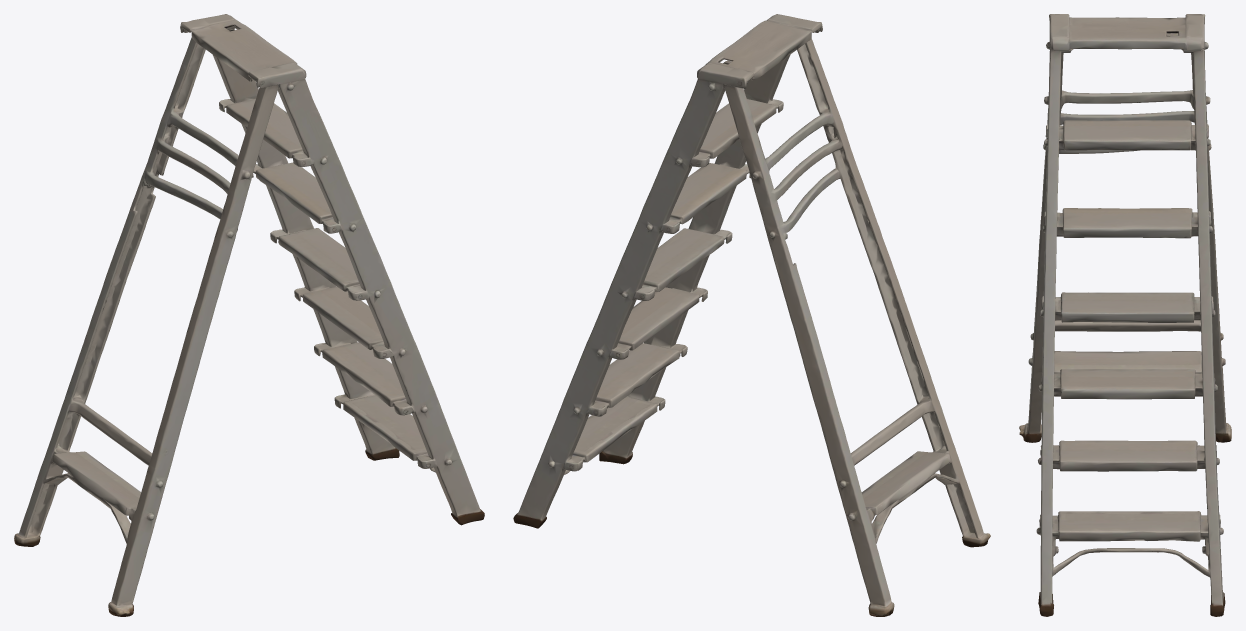
File: ladder-step.glb
3 renders of one model, left to right at view 1: azimuth 30°, elevation 25°; view 2: azimuth 150°, elevation 25°; view 3: azimuth 270°, elevation 25°, orthographic.
Parts seen in each view (by area): view 1: tripo_node_e236929c-a187-4b0b-974b-76c5d07dfec5; view 2: tripo_node_e236929c-a187-4b0b-974b-76c5d07dfec5; view 3: tripo_node_e236929c-a187-4b0b-974b-76c5d07dfec5.
Part boxes in pixels (box(x1,y1,x2,y2)): tripo_node_e236929c-a187-4b0b-974b-76c5d07dfec5: box(14, 14, 484, 616); tripo_node_e236929c-a187-4b0b-974b-76c5d07dfec5: box(513, 14, 990, 616); tripo_node_e236929c-a187-4b0b-974b-76c5d07dfec5: box(1019, 14, 1231, 616).
Size of the model in its own units: 0.8013 by 1 by 0.3876.
1 material, 1 textured.
